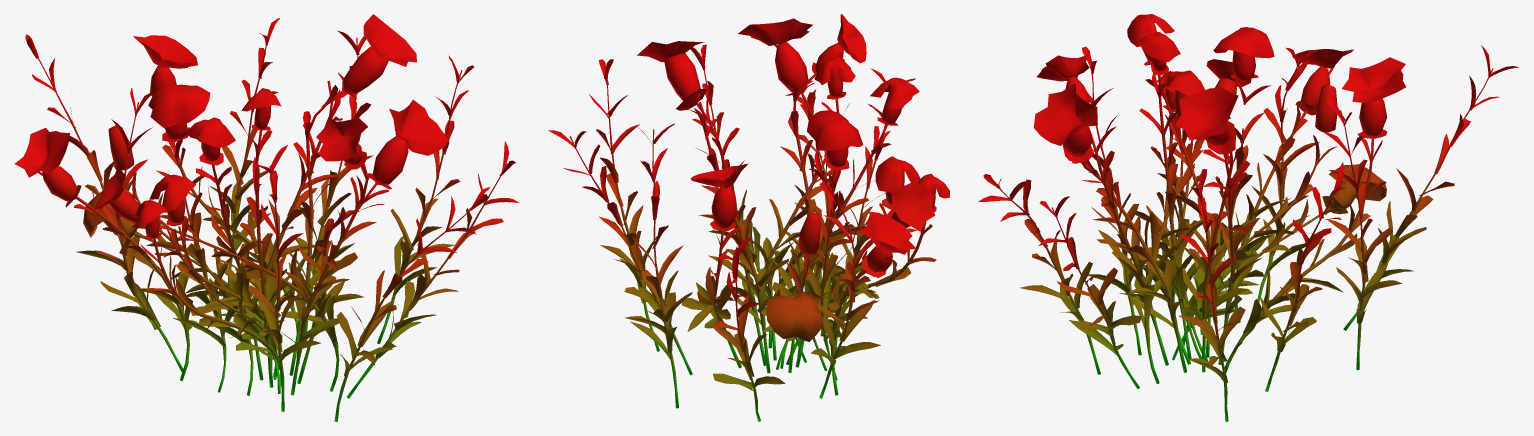
Rendered from Var8_LOD0.fbx.
The picture shows the model from 3 angles, left to right: view 1: azimuth 30°, elevation 25°; view 2: azimuth 150°, elevation 25°; view 3: azimuth 270°, elevation 25°; orthographic projection. The views are drawn at different scales.
Visible parts, largest first — view 1: _oipy_Var8_LOD0; view 2: _oipy_Var8_LOD0; view 3: _oipy_Var8_LOD0.
Boxes of the visible parts, <box> form: _oipy_Var8_LOD0: <box>14,14,519,421</box>; _oipy_Var8_LOD0: <box>548,14,949,421</box>; _oipy_Var8_LOD0: <box>978,14,1518,421</box>.
Bounding box in the file's own units: 36.13 × 29.16 × 43.26.
